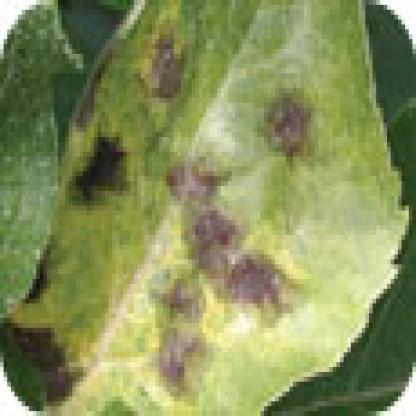Apple Scab Leaf: (61, 5, 408, 411)
